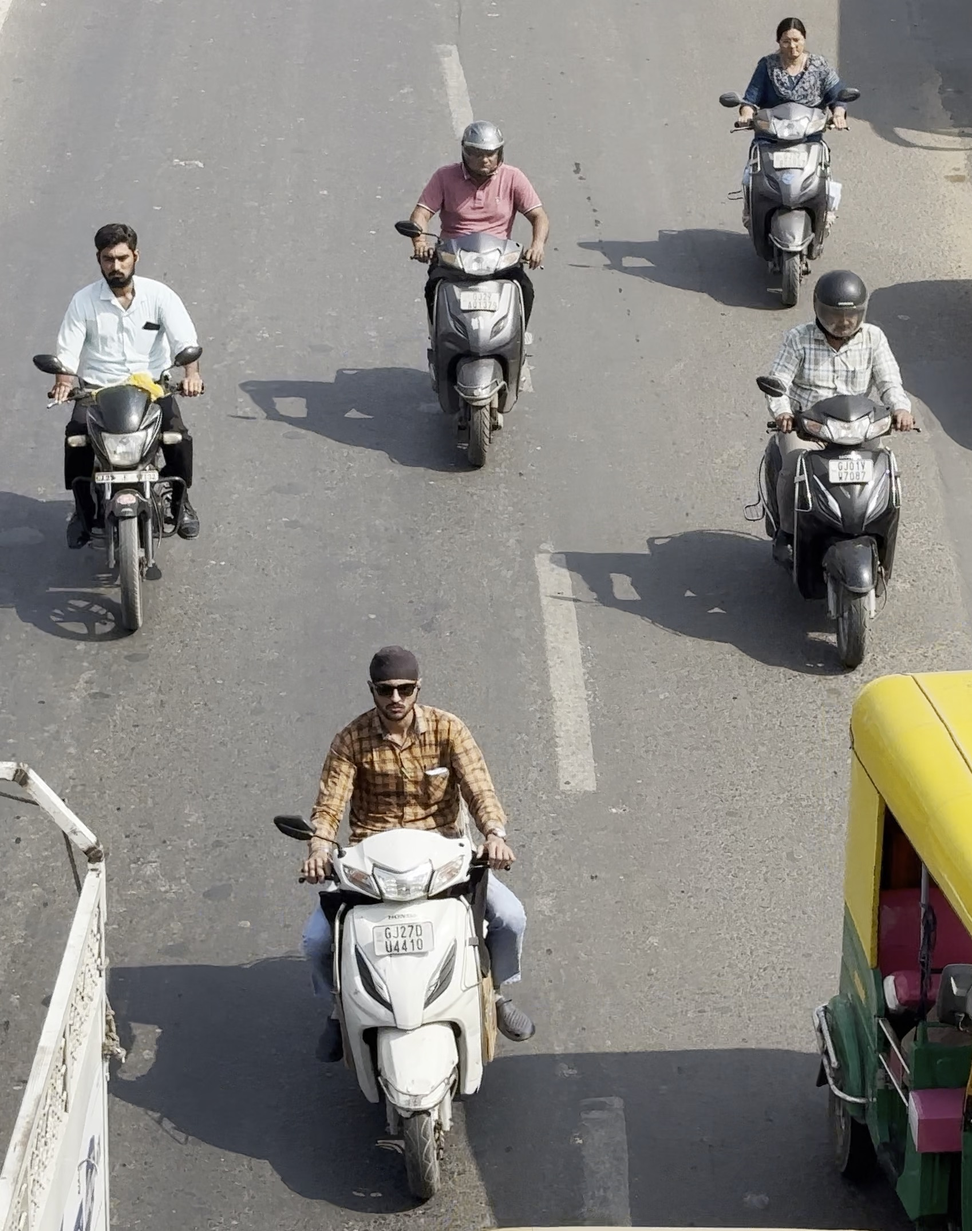BikeWithRider: (270, 639, 547, 1209), (27, 214, 211, 636), (749, 267, 930, 675), (394, 114, 552, 470), (711, 13, 868, 313)
Helmet: (805, 269, 868, 343), (456, 116, 510, 184)
NoHelmet: (361, 647, 425, 730), (86, 216, 143, 290), (766, 15, 811, 65)
